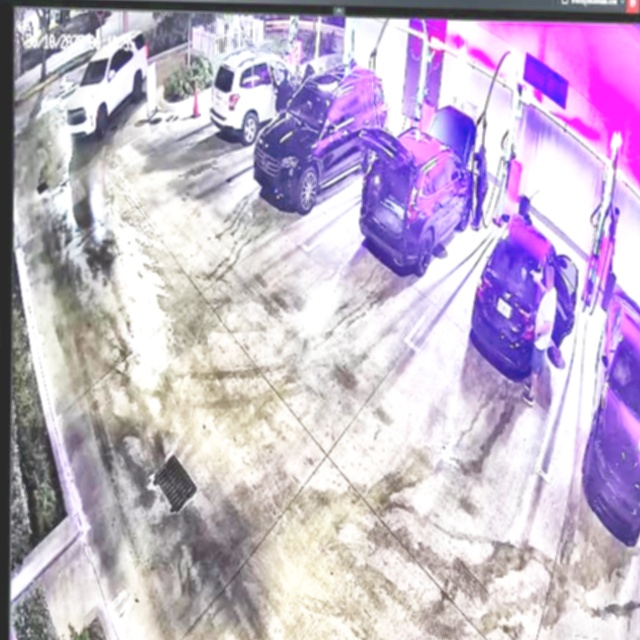Car: (361, 104, 476, 280), (253, 63, 390, 209), (469, 210, 581, 384)
